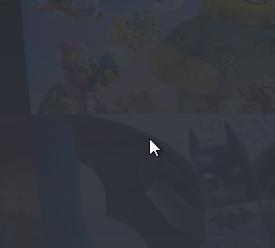cursor: (148, 138, 161, 157)
